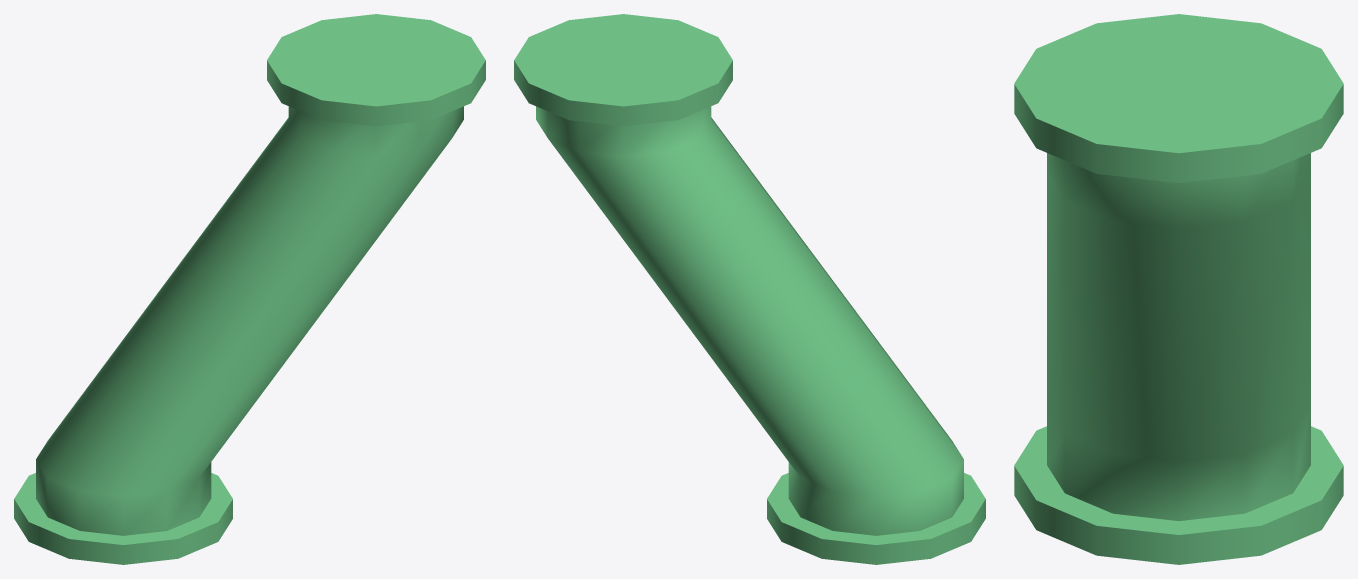
The model's file is Pipe_Basic_2Way_Offset.fbx.
3 views of the same model, side by side, from view 1: azimuth 30°, elevation 25°; view 2: azimuth 150°, elevation 25°; view 3: azimuth 270°, elevation 25° (orthographic). The views are drawn at different scales.
Parts seen in each view (by area): view 1: Pipe_Basic_2Way_Offset; view 2: Pipe_Basic_2Way_Offset; view 3: Pipe_Basic_2Way_Offset.
Boxes of the visible parts, x1=… form: Pipe_Basic_2Way_Offset: x1=14, y1=14, x2=485, y2=564; Pipe_Basic_2Way_Offset: x1=514, y1=14, x2=985, y2=564; Pipe_Basic_2Way_Offset: x1=1014, y1=14, x2=1343, y2=564.
Size of the model in its own units: 175 by 150 by 75.
